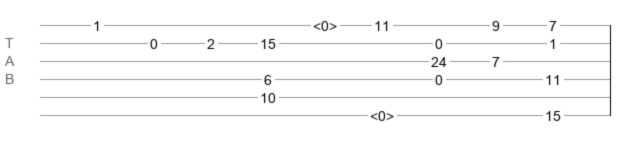0: (150, 36, 158, 46), (435, 36, 443, 46), (435, 72, 443, 82)
1: (93, 18, 101, 28), (549, 36, 557, 46)
10: (260, 90, 276, 100)
11: (374, 18, 390, 28), (545, 72, 561, 82)
15: (260, 36, 276, 46), (545, 108, 561, 118)
2: (207, 36, 215, 46)
24: (431, 54, 447, 64)
6: (264, 72, 272, 82)
7: (492, 54, 500, 64), (549, 18, 557, 28)
9: (492, 18, 500, 28)
harmonic: (313, 18, 337, 28), (370, 108, 394, 118)
